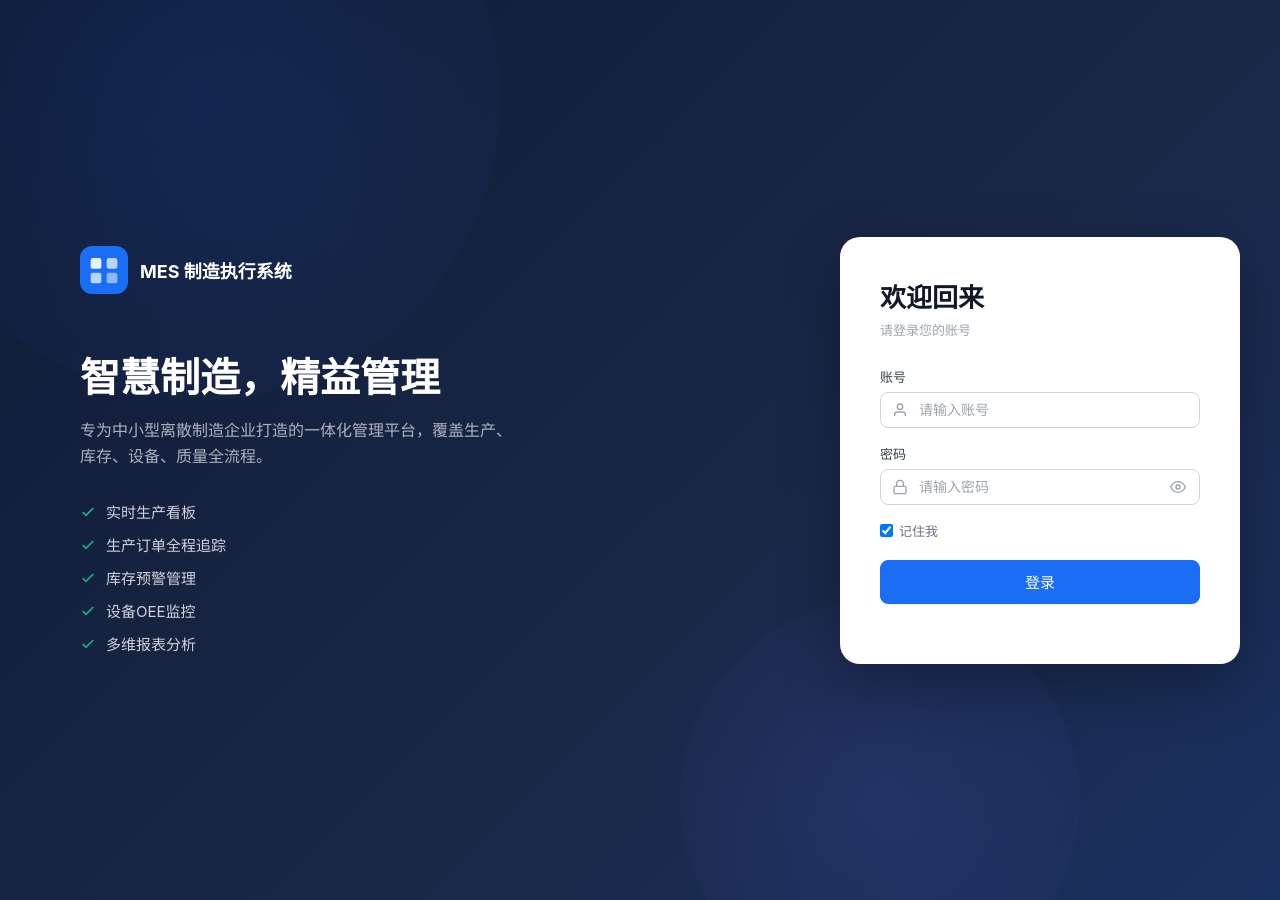
Test: Login.vue › displays error when API returns no token
Step 1. Type "admin" into the field with placeholder "请输入账号" → (1040, 410), box [880, 392, 1200, 428]
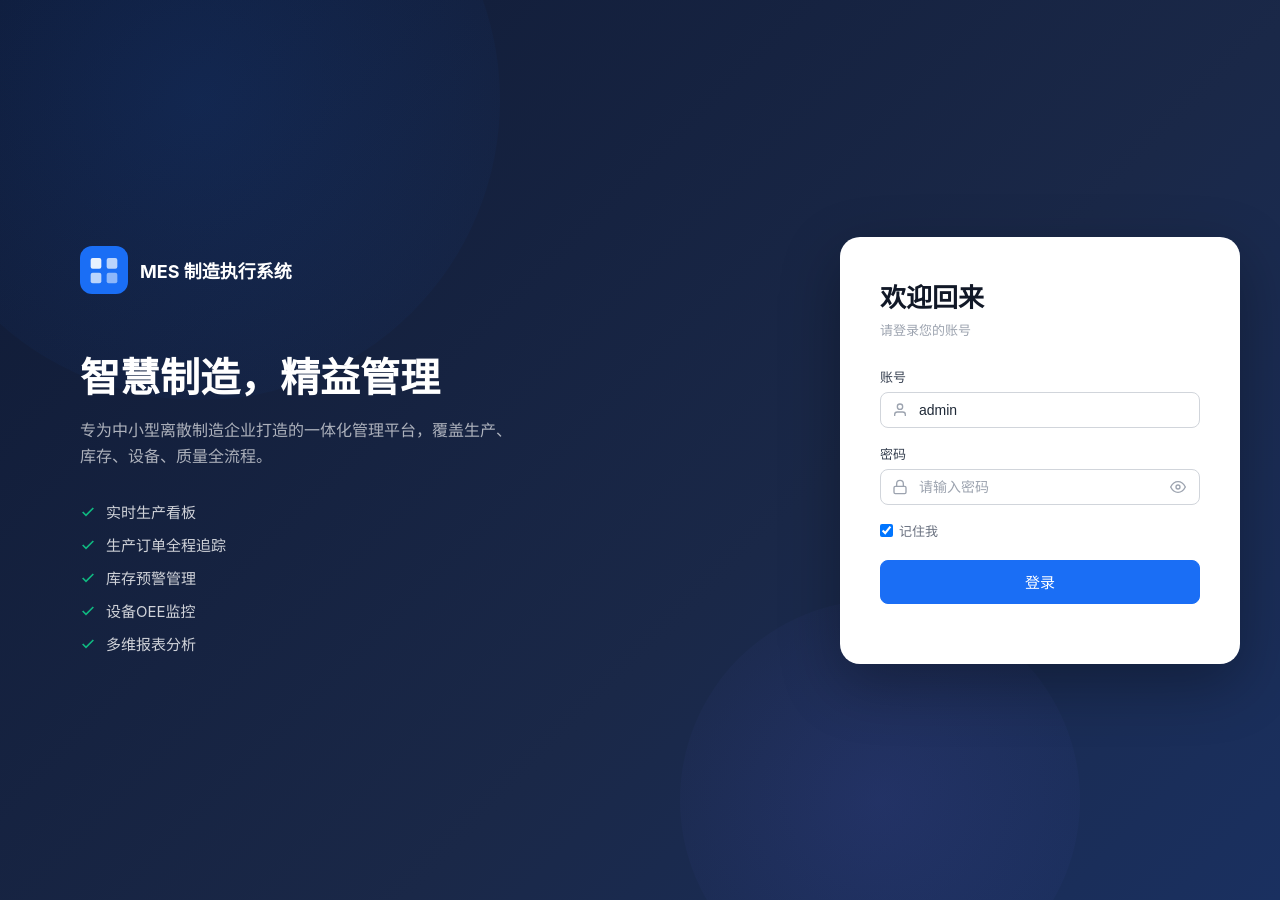
Step 2. Type "pass" into the password field with placeholder "请输入密码" → (1040, 486), box [880, 468, 1200, 504]
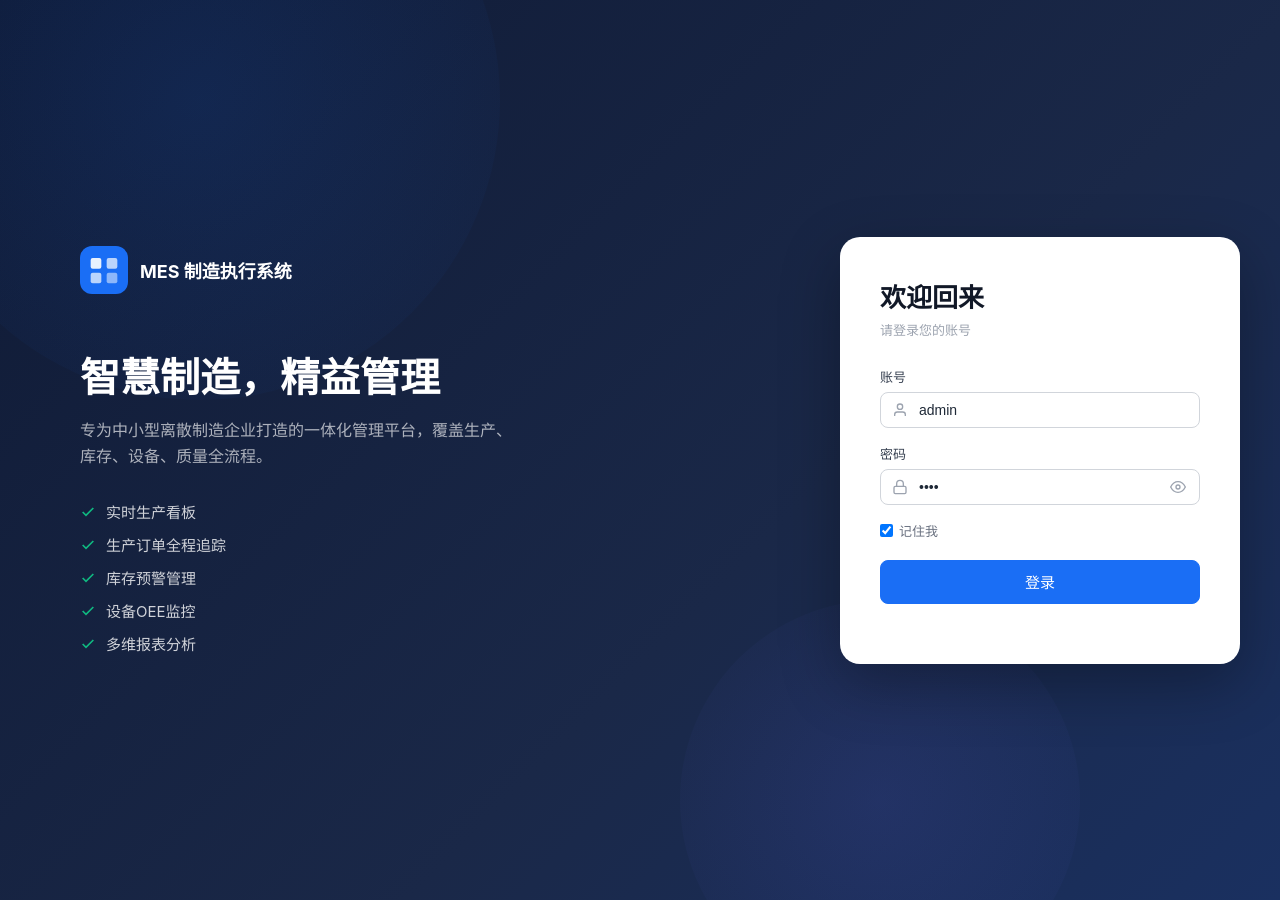
Step 3. Submit the form, box [880, 366, 1200, 604]
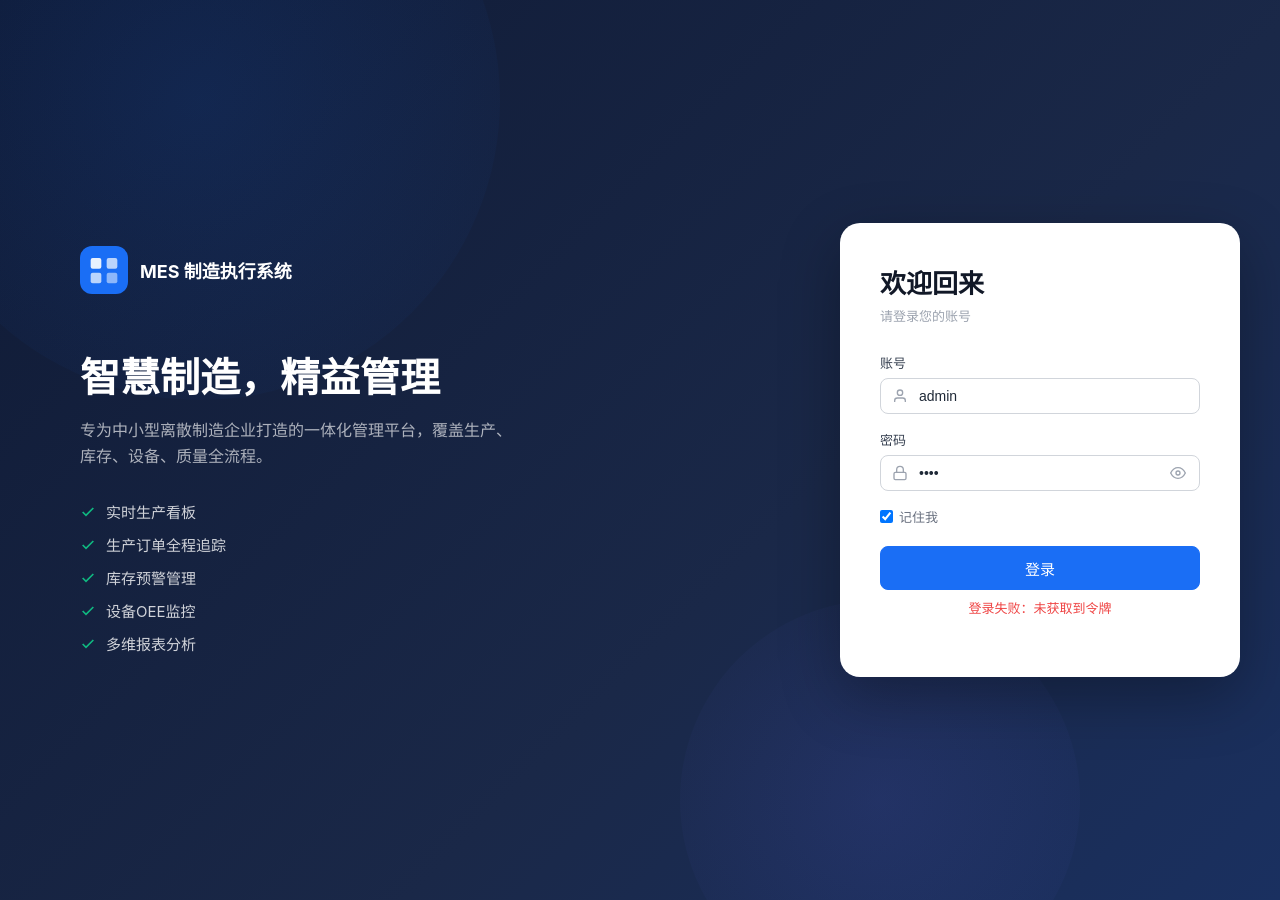
expect the text "登录失败：未获取到令牌" is shown: met, box [968, 600, 1112, 616]
